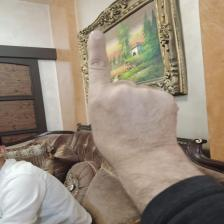one: (75, 27, 185, 172)
